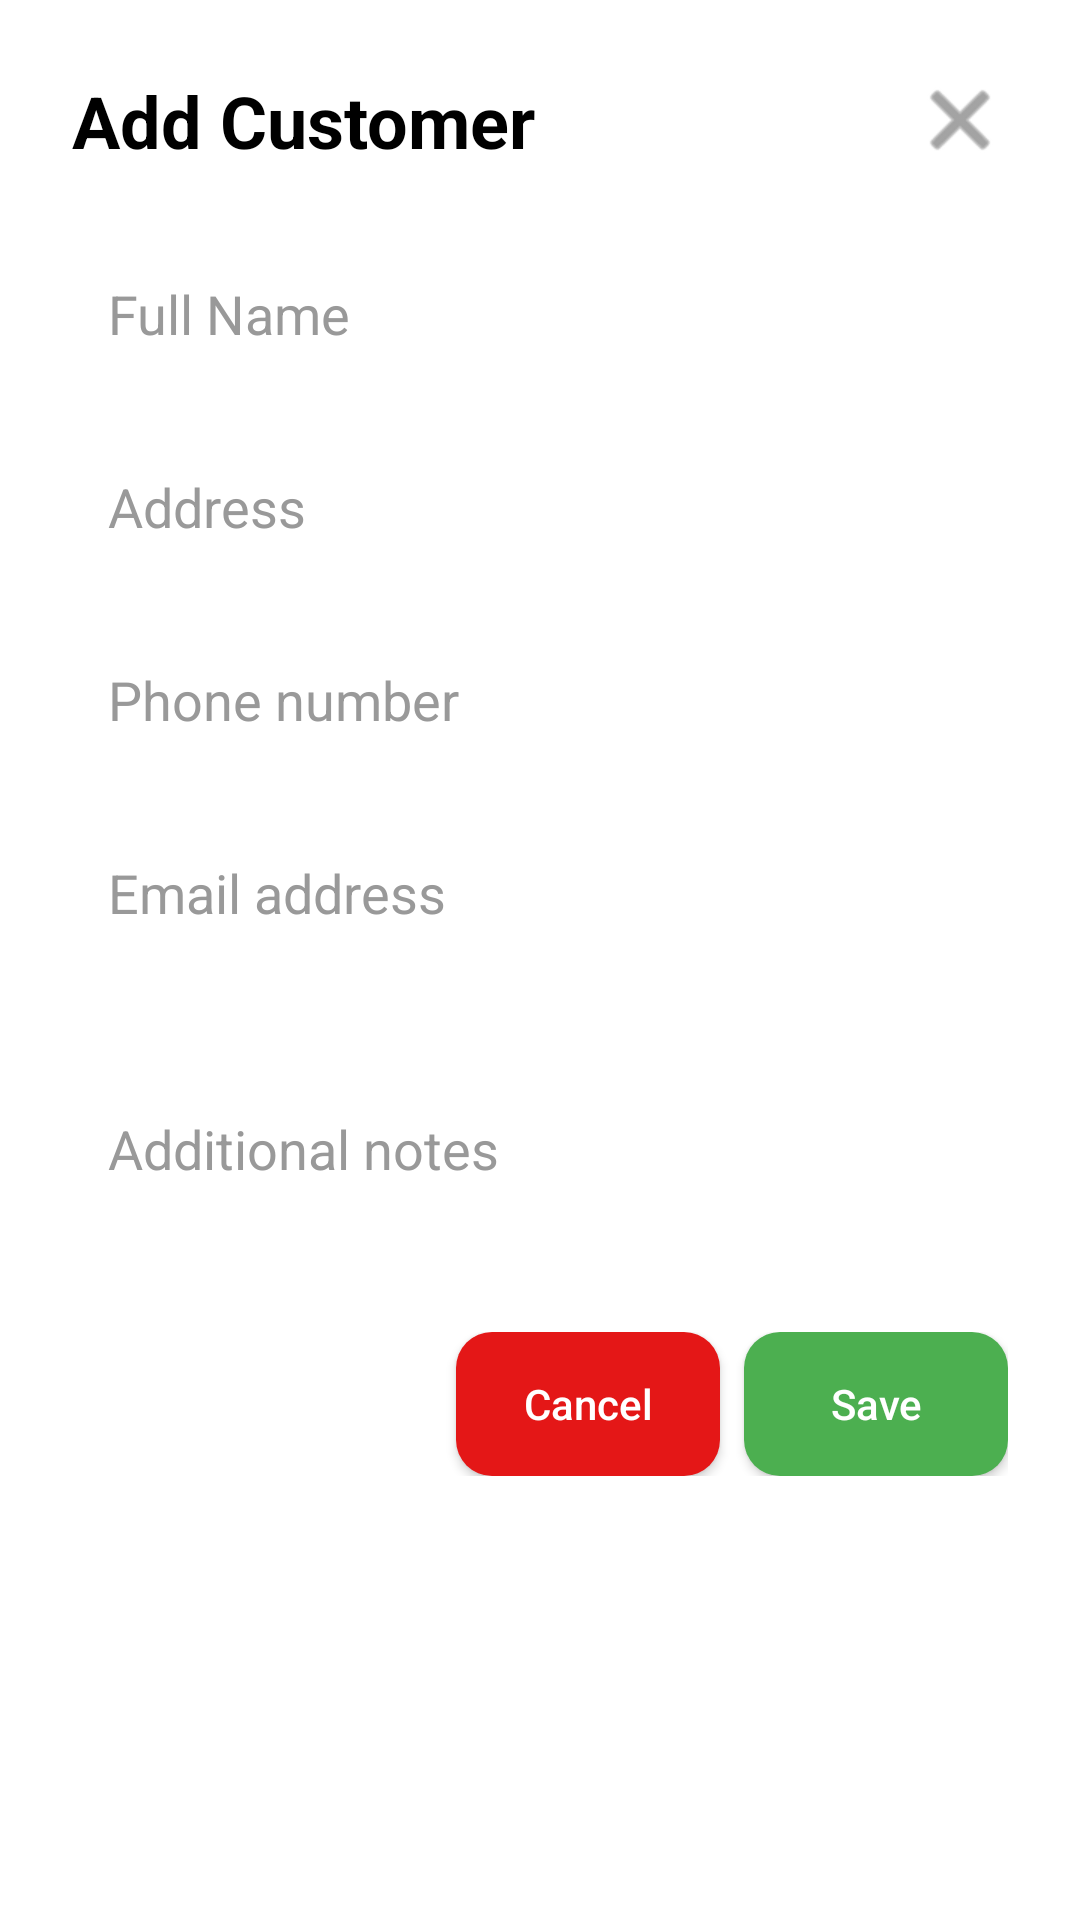

Icons on this 1080 x 1920 Android screen, each with its box as box(x1, y1, x2, y2):
Close: box(930, 90, 990, 150)
